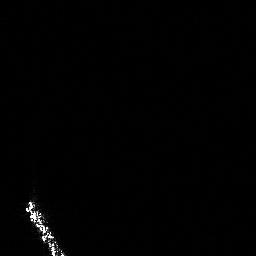ship: (21, 195, 69, 256)
